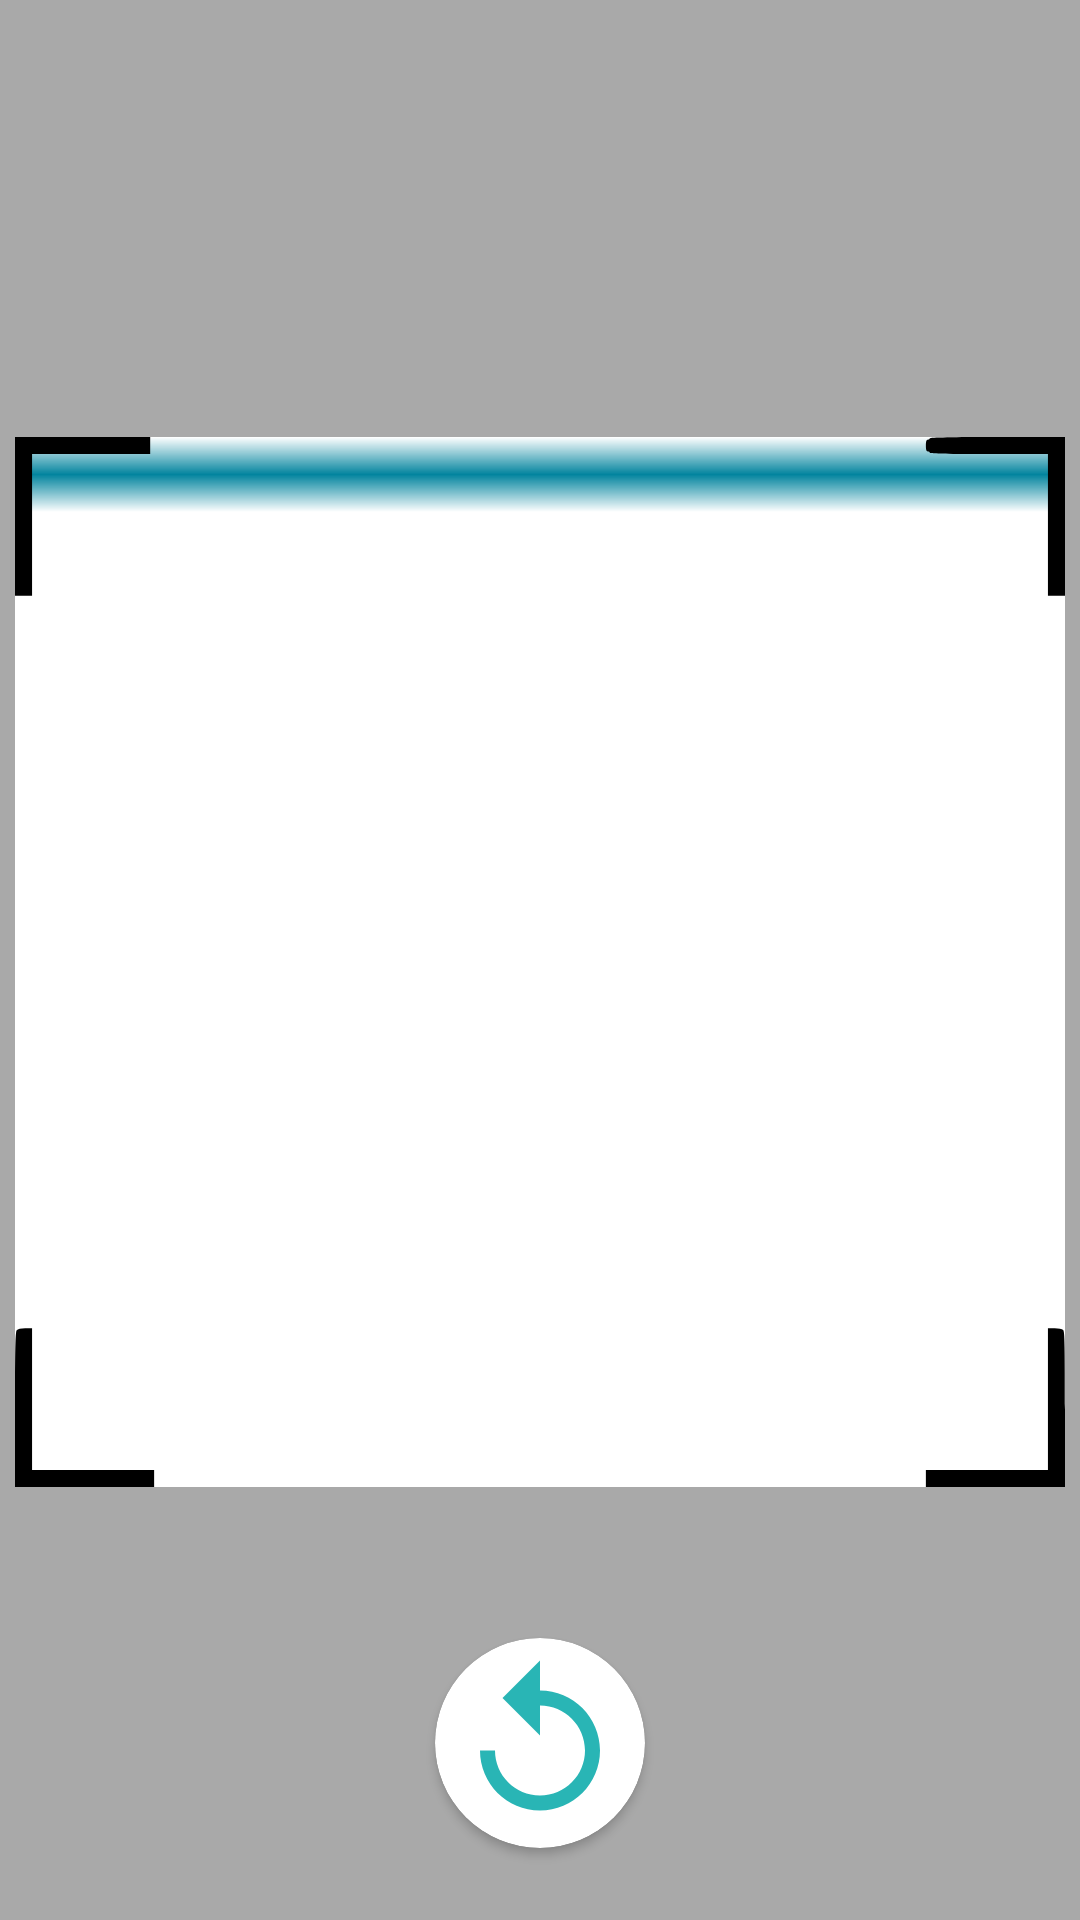

Where to tap for icons on this 1080*1920 app screen, as point (x, y):
flip: point (540, 1743)
